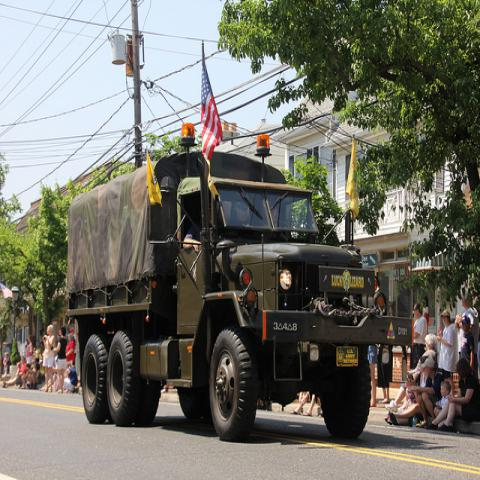truck: (67, 39, 412, 445)
